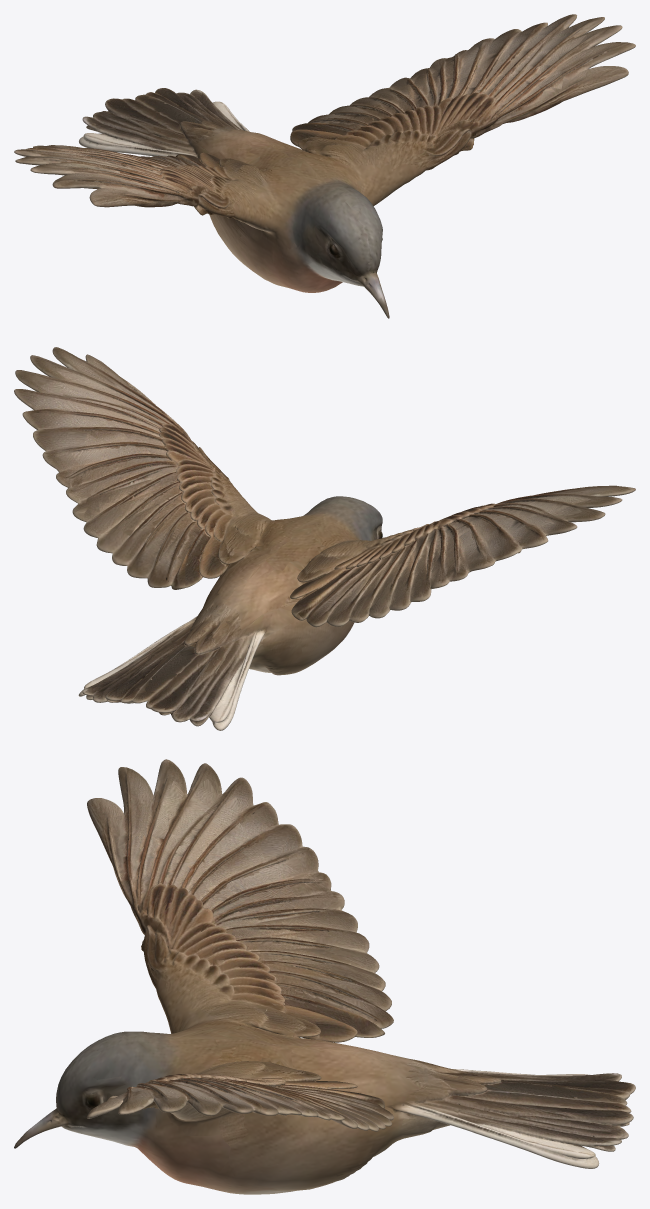
The model's file is Curruca_communis.glb.
The picture shows the model from 3 angles, top to bottom: view 1: azimuth 30°, elevation 25°; view 2: azimuth 150°, elevation 25°; view 3: azimuth 270°, elevation 25°; orthographic projection. The views are drawn at different scales.
Parts seen in each view (by area): view 1: orient; view 2: orient; view 3: orient.
Boxes of the visible parts, x1,y1,x2,y2 form: orient: [14, 14, 635, 318]; orient: [14, 347, 635, 730]; orient: [14, 759, 635, 1194].
Size of the model in its own units: 0.5 by 0.1684 by 0.3739.
Materials: 1 (1 with a texture image).
